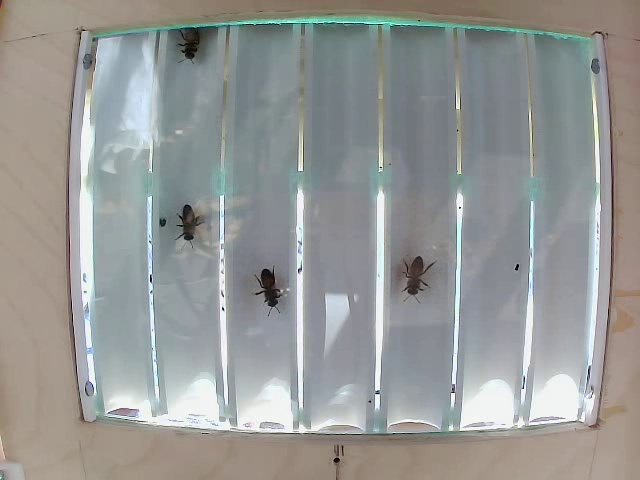bee: (383, 250, 450, 316), (179, 23, 232, 84), (245, 268, 303, 322), (173, 192, 215, 253)
